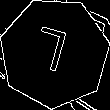L_S: (33, 24, 76, 82)
